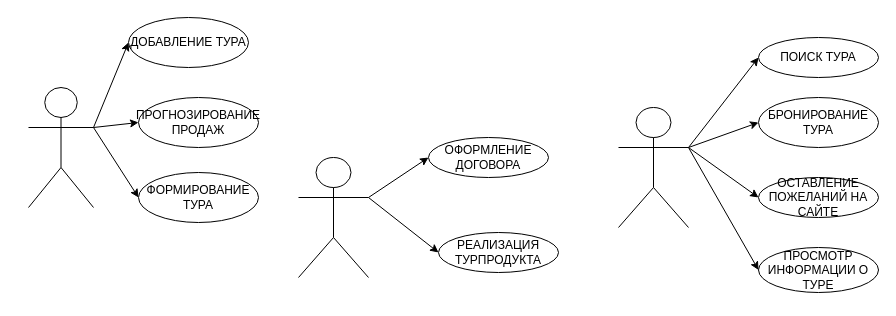
The diagram is 896 pixels wide and 316 high, and some of its shapes have lost their labels. Each missing label, with the centre of its shape:
"КЛИЕНТ" goes at (653,167).
"ТУРАГЕНТ" goes at (333,217).
"ТУРОПЕРАТОР" goes at (61,147).
